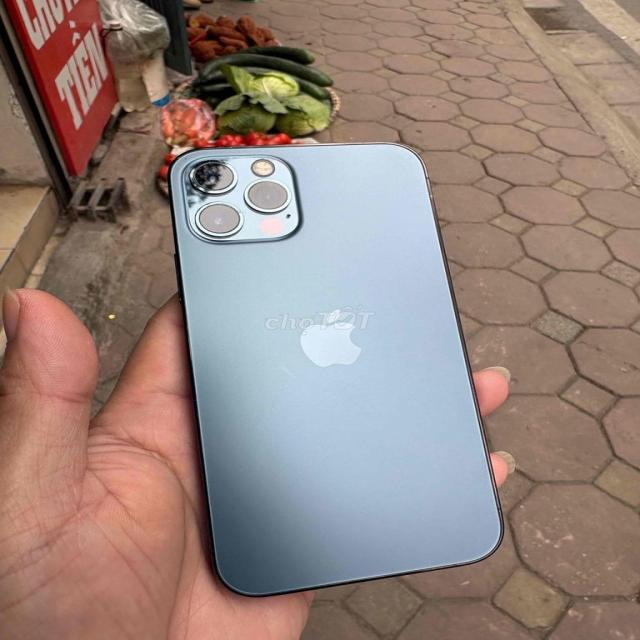gen_12_13: (162, 143, 506, 600)
